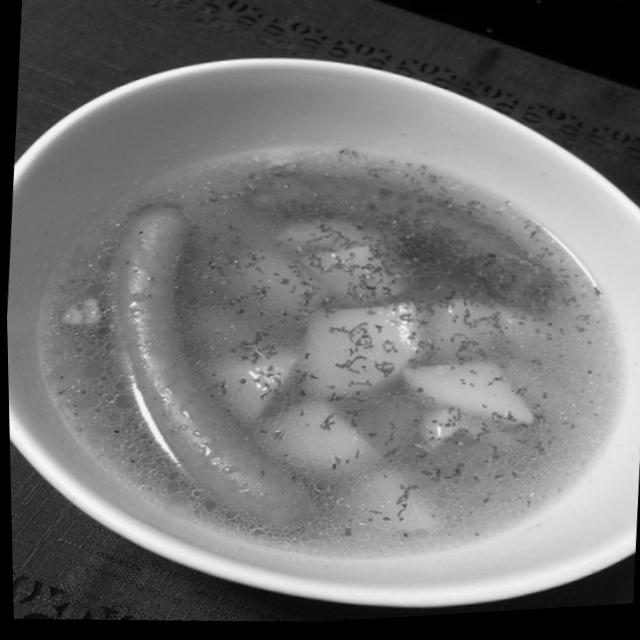汤锅炖物: (1, 47, 640, 640)
